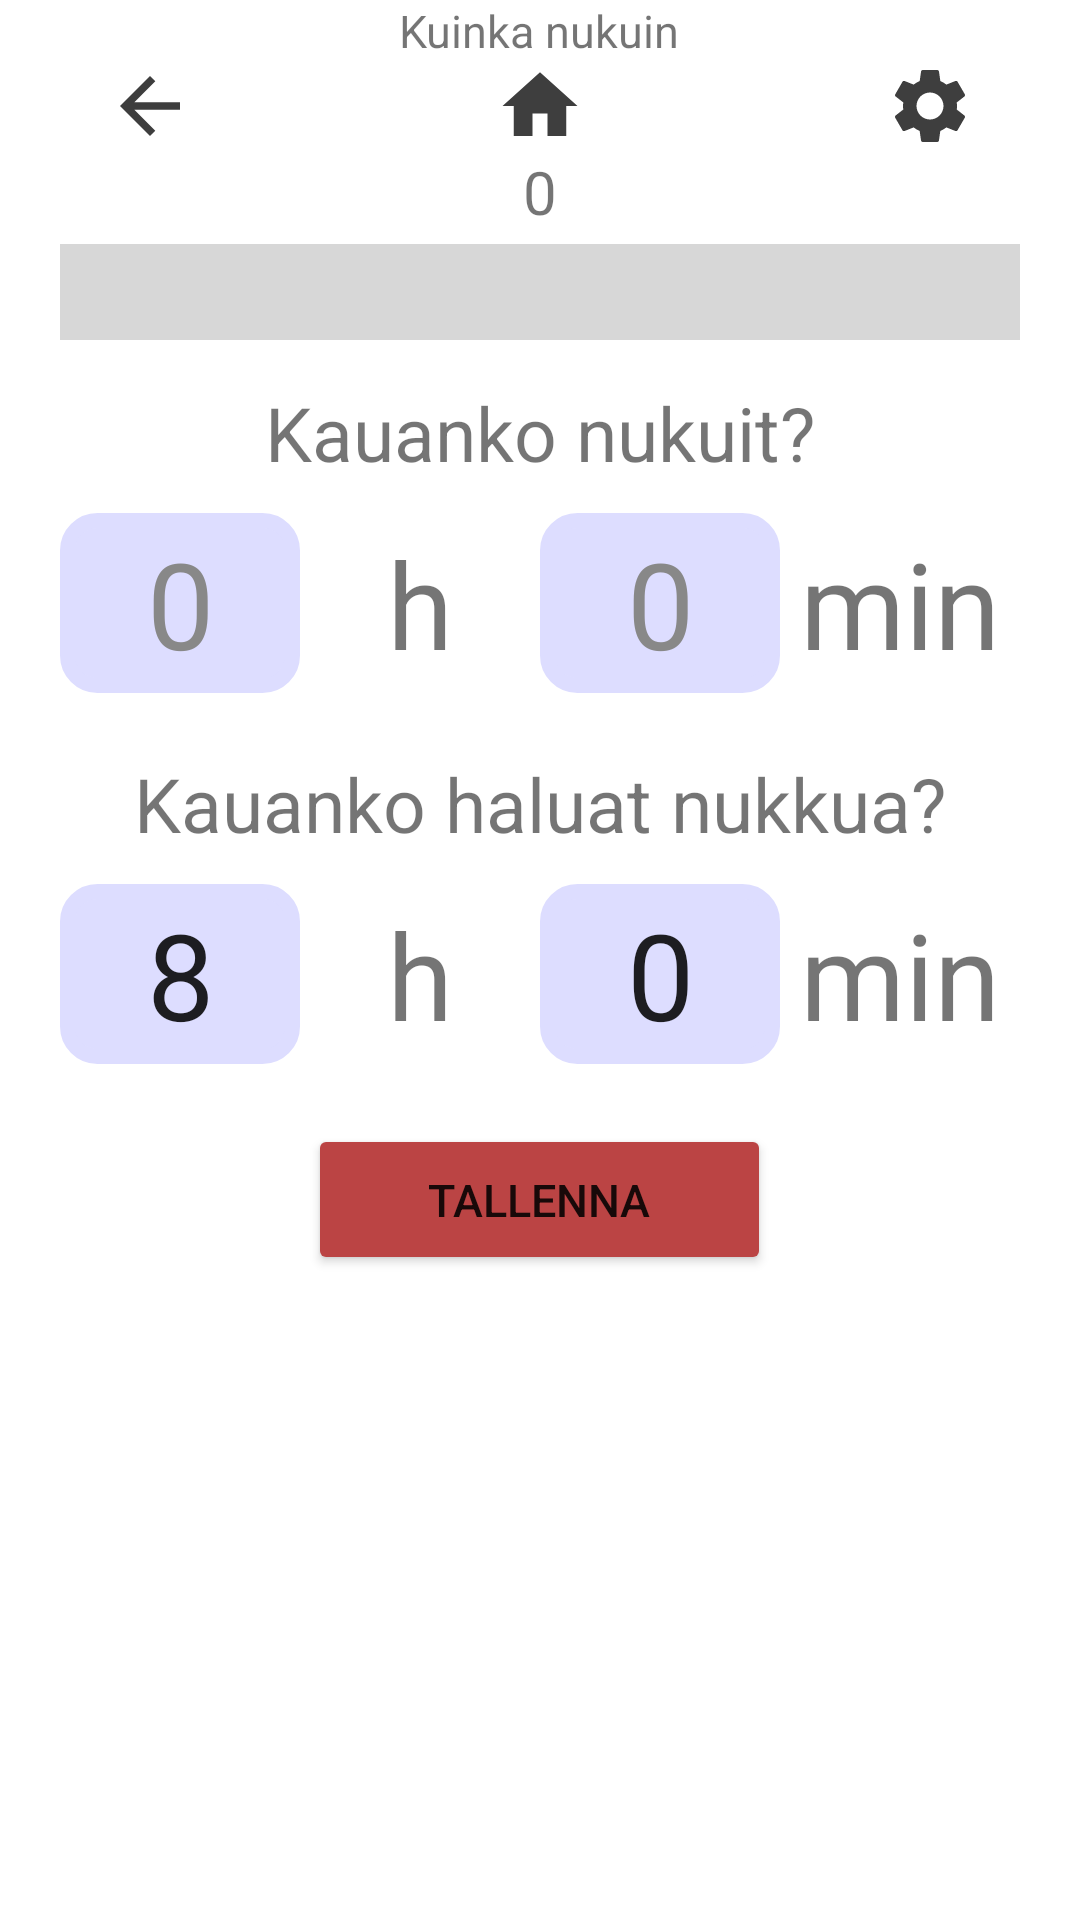

Named icons in this screenshot (1080*1920) and their bounding boxes, (x1, y1, x2, y2):
Asetukset: (895, 70, 965, 142)
Koti: (503, 72, 577, 136)
Takaisin: (120, 76, 180, 136)
